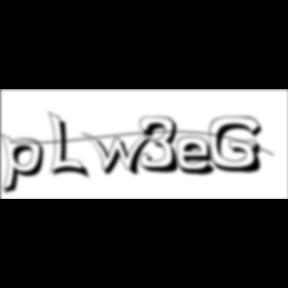3: (140, 116, 186, 176)
G: (210, 116, 268, 176)
L: (48, 110, 92, 182)
e: (176, 135, 222, 178)
p: (0, 132, 50, 198)
w: (82, 132, 160, 178)
